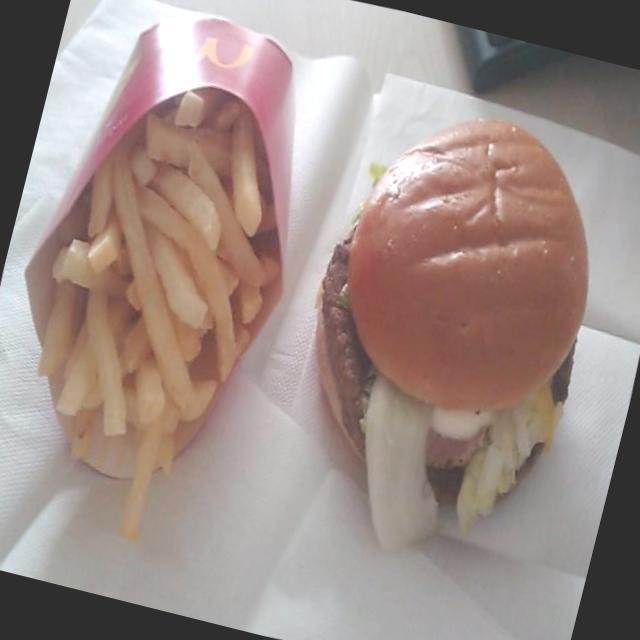French Fries: (0, 53, 328, 569)
Hamburger: (251, 69, 640, 579)
